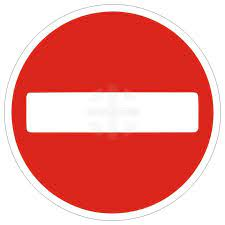No entry: (4, 5, 221, 221)
